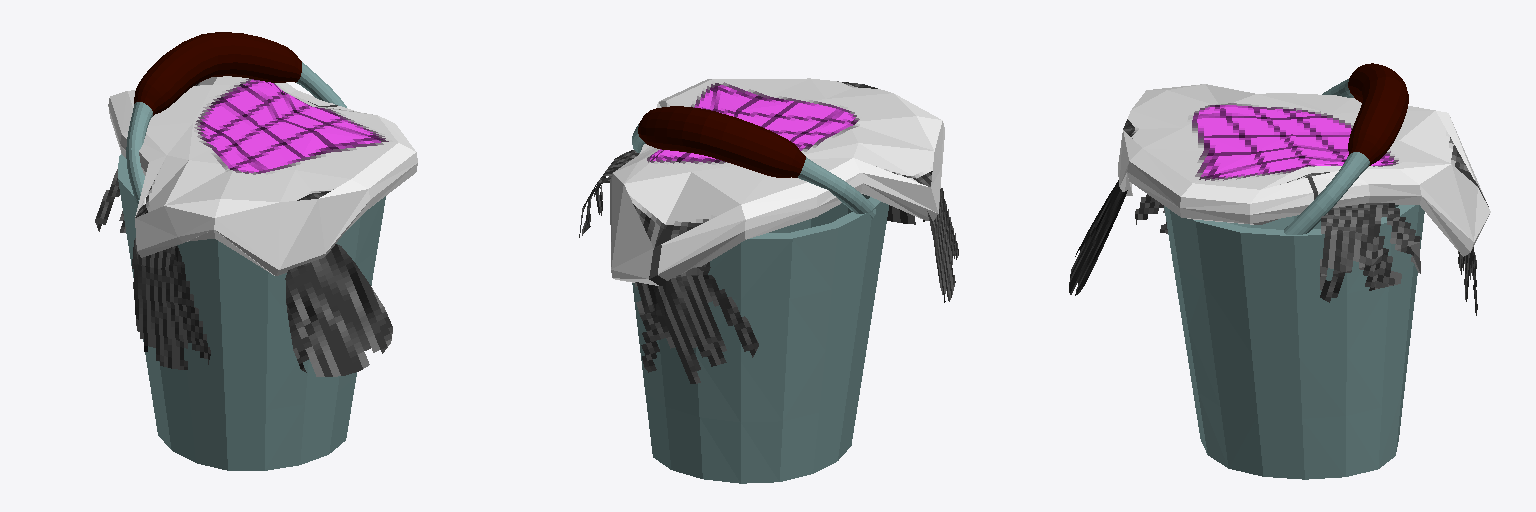
The picture shows the model from 3 angles: view 1: azimuth 30°, elevation 25°; view 2: azimuth 150°, elevation 25°; view 3: azimuth 270°, elevation 25°; orthographic projection.
Visible parts, largest first — view 1: Blanket.001_Cube.1439, Bucket.003_Cube.1441; view 2: Bucket.003_Cube.1441, Blanket.001_Cube.1439; view 3: Bucket.003_Cube.1441, Blanket.001_Cube.1439.
Part boxes in pixels (left/top/right/bottom): Blanket.001_Cube.1439: left=95, top=76, right=417, bottom=376; Bucket.003_Cube.1441: left=118, top=32, right=385, bottom=470; Bucket.003_Cube.1441: left=632, top=106, right=888, bottom=483; Blanket.001_Cube.1439: left=579, top=78, right=958, bottom=383; Bucket.003_Cube.1441: left=1164, top=63, right=1424, bottom=479; Blanket.001_Cube.1439: left=1069, top=84, right=1490, bottom=315.
Size of the model in its own units: 1.65 by 1.95 by 2.06.
3 materials, 1 textured.